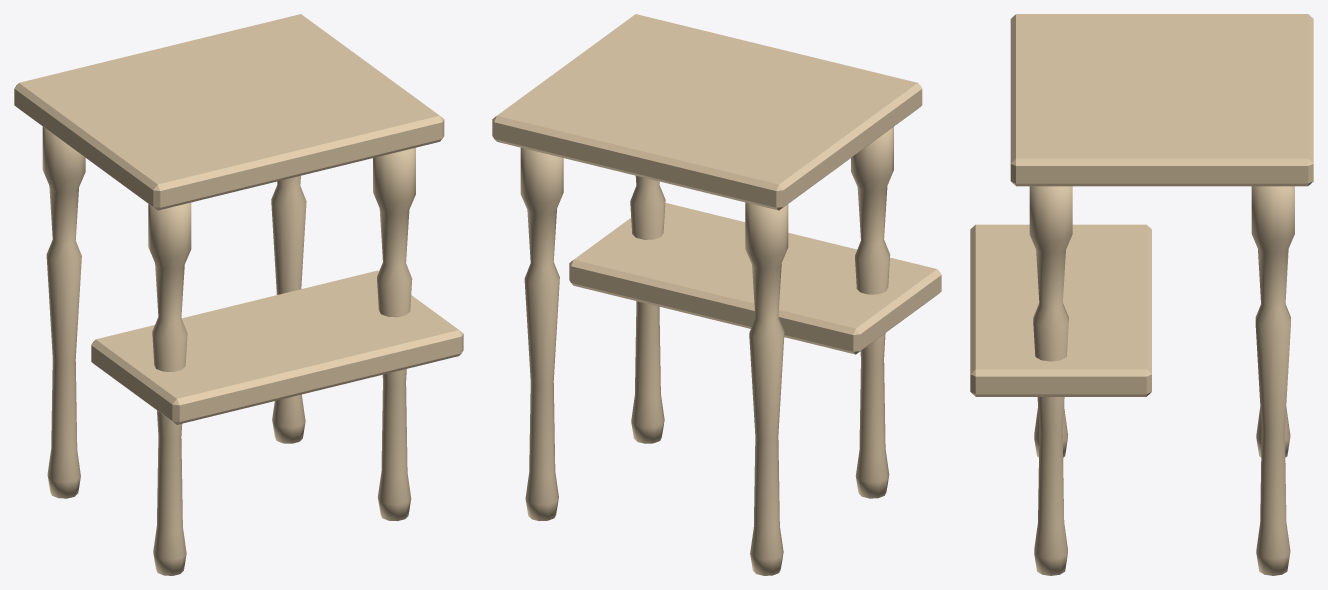
The model's file is step_stool.glb.
3 views of the same model, side by side, from view 1: azimuth 30°, elevation 25°; view 2: azimuth 150°, elevation 25°; view 3: azimuth 270°, elevation 25° (orthographic). The views are drawn at different scales.
Parts seen in each view (by area): view 1: step_stool; view 2: step_stool; view 3: step_stool.
Part boxes in pixels (x1,y1,x2,y2): step_stool: [14, 14, 463, 575]; step_stool: [492, 14, 941, 575]; step_stool: [970, 14, 1313, 575].
Size of the model in its own units: 0.35 by 0.465 by 0.34.
